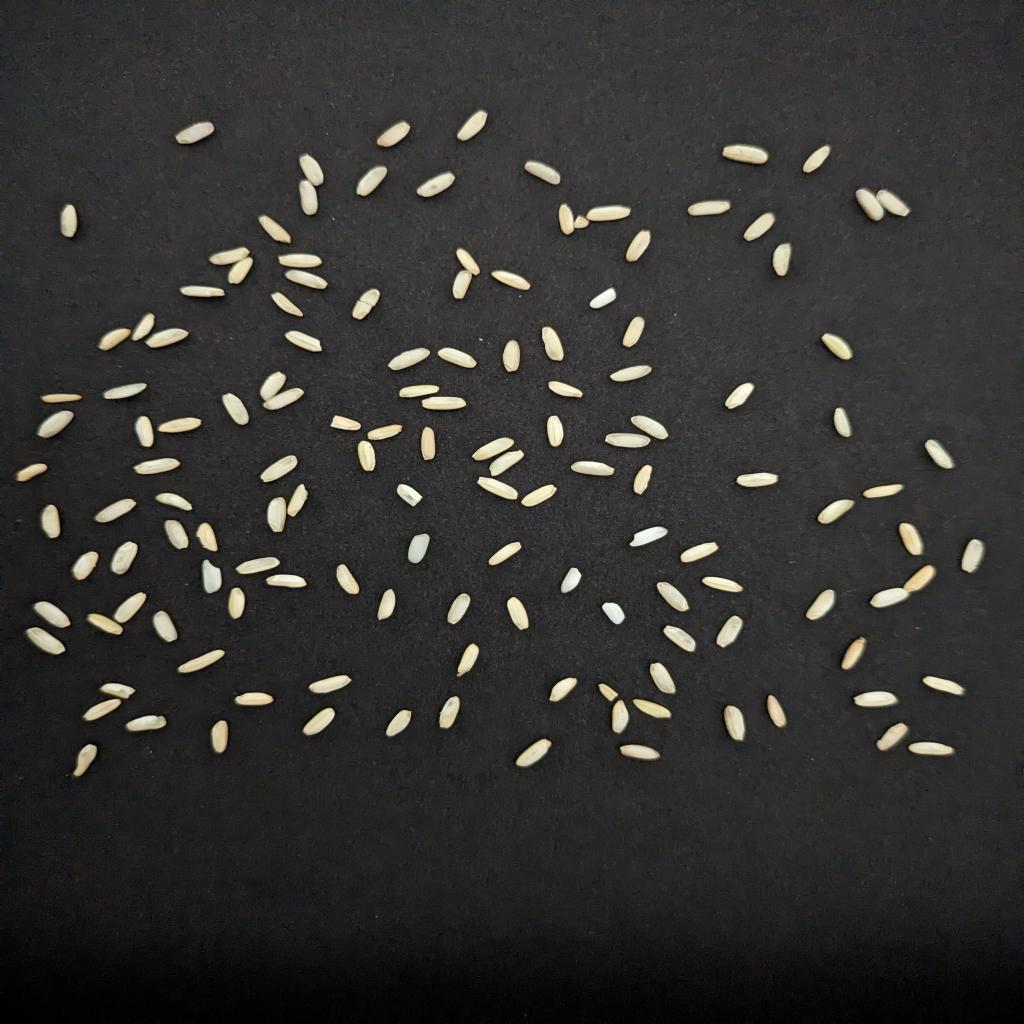chalky: (24, 628, 67, 654), (178, 650, 224, 674), (112, 592, 146, 624), (37, 410, 75, 438), (655, 582, 690, 612), (32, 602, 72, 628), (517, 738, 551, 768), (416, 172, 455, 198), (477, 476, 519, 500), (855, 188, 884, 222), (903, 564, 938, 592), (525, 160, 562, 186), (261, 456, 298, 482), (455, 110, 487, 140), (722, 144, 770, 164), (743, 212, 775, 242), (357, 166, 389, 196), (924, 440, 956, 470), (83, 698, 123, 722), (109, 542, 139, 574), (96, 498, 136, 522), (376, 120, 410, 148), (471, 438, 514, 460), (352, 288, 381, 320), (631, 416, 669, 440), (876, 190, 911, 216), (490, 450, 525, 476), (258, 216, 290, 244), (876, 722, 908, 750), (304, 708, 336, 736), (818, 500, 855, 524), (898, 522, 924, 556), (176, 122, 216, 144), (389, 348, 429, 370), (264, 388, 304, 410), (802, 144, 831, 174), (807, 590, 836, 620), (221, 394, 250, 424), (298, 154, 325, 186), (650, 662, 677, 694), (72, 744, 99, 776), (285, 270, 328, 290), (146, 328, 189, 348), (309, 674, 352, 694), (724, 382, 754, 410), (922, 676, 964, 696), (487, 542, 522, 566), (208, 246, 250, 266), (820, 334, 852, 360), (717, 616, 743, 648), (663, 626, 695, 652), (152, 610, 178, 642), (962, 538, 986, 572), (541, 326, 565, 360), (285, 330, 322, 352), (586, 204, 631, 222), (629, 526, 669, 546), (679, 542, 719, 562), (871, 588, 911, 608), (437, 348, 477, 368), (237, 556, 280, 574), (125, 714, 168, 732), (522, 484, 557, 506), (88, 614, 123, 636), (626, 230, 650, 262), (842, 638, 866, 670), (506, 598, 530, 630), (272, 292, 304, 316), (133, 458, 181, 474), (226, 256, 253, 284), (104, 382, 146, 400), (72, 552, 99, 580), (724, 706, 746, 740), (266, 498, 288, 532), (493, 270, 530, 290), (634, 698, 671, 718), (605, 432, 650, 448), (447, 594, 471, 624), (157, 418, 202, 434), (165, 520, 189, 550), (336, 564, 360, 594), (40, 504, 61, 538), (623, 316, 645, 348), (99, 328, 131, 350), (439, 696, 461, 728), (386, 710, 413, 736), (549, 678, 578, 702), (687, 200, 730, 216), (735, 472, 778, 488), (610, 366, 653, 382), (855, 692, 898, 708), (298, 180, 317, 216), (154, 492, 192, 510), (455, 248, 479, 276), (701, 576, 743, 592), (908, 742, 956, 756), (458, 644, 479, 676), (288, 484, 309, 516), (261, 372, 285, 400), (133, 416, 154, 448), (772, 242, 791, 276), (767, 694, 786, 728), (202, 560, 221, 594), (210, 720, 229, 754), (621, 744, 661, 760), (277, 254, 322, 268), (421, 396, 466, 410), (570, 462, 615, 476), (408, 534, 429, 564), (197, 522, 218, 552), (549, 380, 583, 398), (357, 440, 376, 472), (131, 314, 154, 340), (589, 288, 618, 308), (16, 464, 48, 482), (559, 568, 581, 594), (546, 416, 565, 446), (378, 590, 397, 620), (863, 484, 903, 498), (266, 574, 306, 588), (234, 692, 274, 706), (400, 384, 439, 398), (613, 700, 629, 734), (368, 424, 402, 440), (61, 204, 77, 238), (453, 270, 471, 300), (834, 408, 852, 438), (634, 466, 653, 494), (181, 286, 224, 298), (503, 340, 519, 372), (421, 428, 437, 460), (559, 204, 575, 234), (229, 588, 245, 618)
